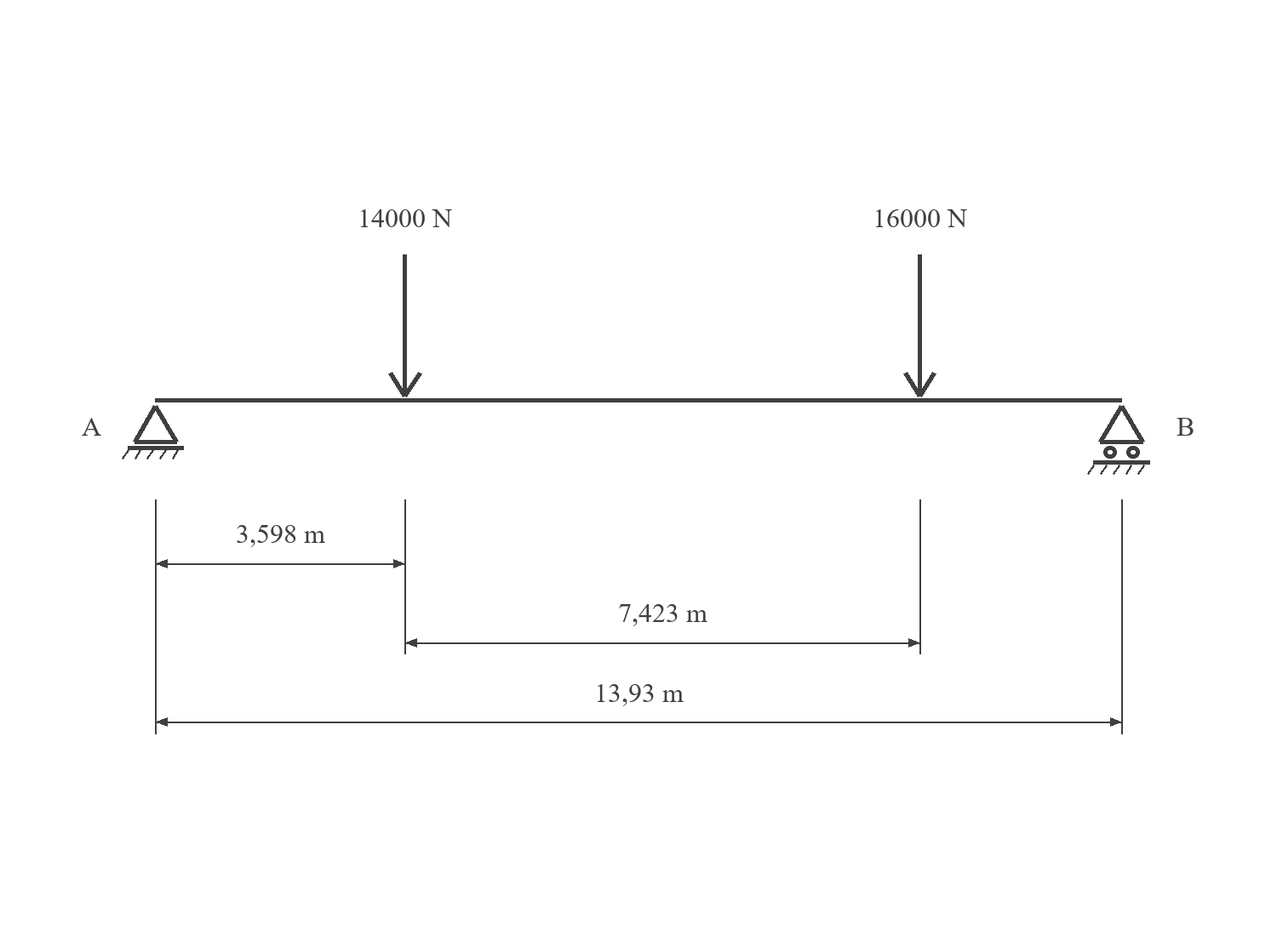pin_support: (122, 405, 184, 459)
point_load: (388, 254, 422, 397), (903, 254, 936, 397)
roller_support: (1087, 405, 1150, 475)
